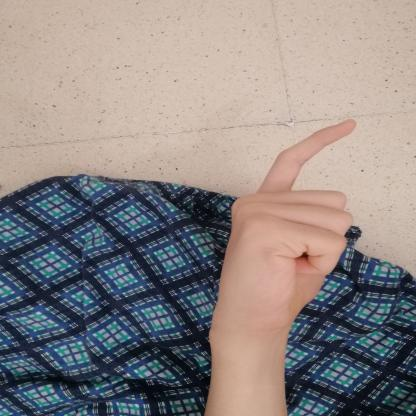RAA: (200, 109, 372, 335)
